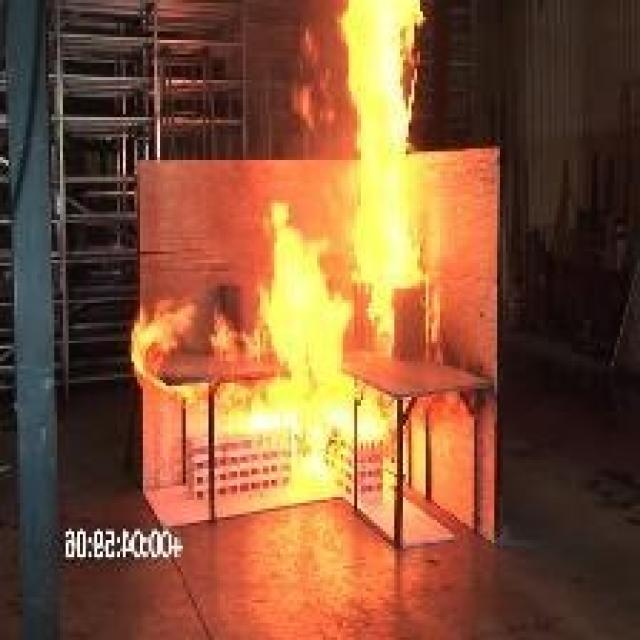fire: (117, 0, 469, 517)
